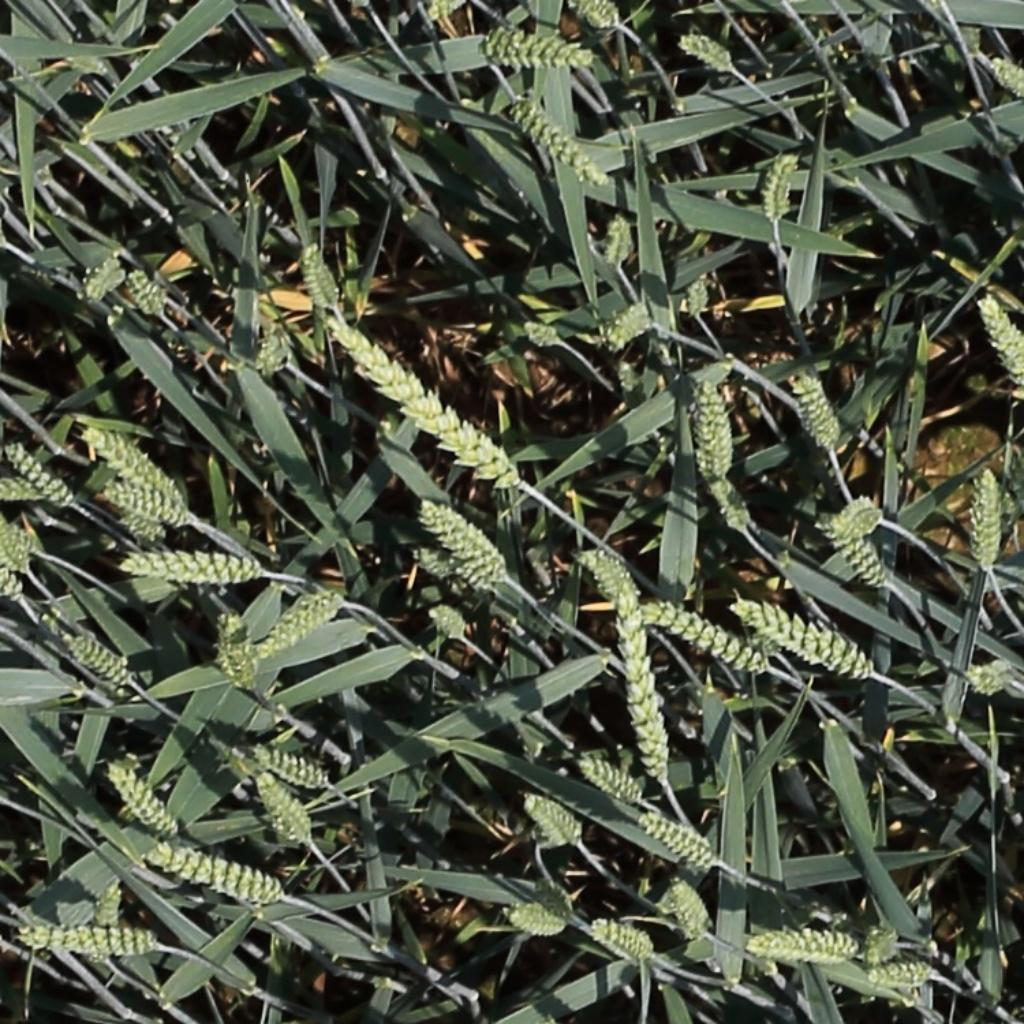0-0: (323, 312, 527, 486), (737, 600, 877, 679), (618, 600, 671, 786), (510, 96, 611, 184), (647, 604, 767, 671), (83, 423, 181, 503), (150, 849, 285, 903), (420, 503, 505, 582), (16, 931, 168, 974), (103, 760, 181, 843), (817, 510, 894, 591), (131, 550, 270, 592), (259, 592, 341, 659), (252, 768, 316, 851), (0, 438, 76, 507), (974, 289, 1024, 391), (794, 368, 845, 453), (643, 816, 720, 872), (215, 610, 258, 697), (970, 644, 1024, 711), (64, 633, 132, 686), (577, 547, 637, 607), (299, 236, 345, 314), (667, 872, 715, 946), (749, 926, 857, 958), (700, 375, 731, 484), (252, 746, 330, 789), (486, 32, 589, 64), (707, 472, 757, 537), (521, 793, 582, 846), (580, 757, 645, 805), (221, 329, 296, 370), (108, 485, 184, 525), (974, 461, 1000, 577), (765, 143, 800, 229), (591, 918, 656, 962), (121, 262, 169, 320), (602, 300, 653, 352), (79, 249, 125, 303), (679, 32, 737, 70), (0, 506, 31, 577), (117, 506, 171, 542), (94, 876, 125, 936), (428, 602, 472, 644), (421, 0, 492, 24), (869, 961, 943, 984), (0, 517, 20, 602), (607, 206, 633, 271), (988, 54, 1024, 98), (860, 922, 902, 959), (507, 909, 569, 933), (688, 267, 714, 322), (521, 319, 565, 344), (582, 1, 621, 28), (0, 475, 40, 499)
